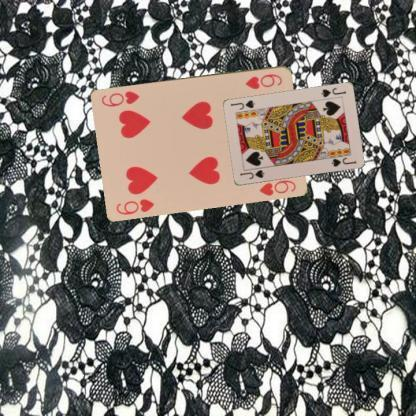6h: (114, 196, 156, 216), (242, 71, 284, 90)
Js: (318, 85, 347, 99), (238, 168, 265, 180)
